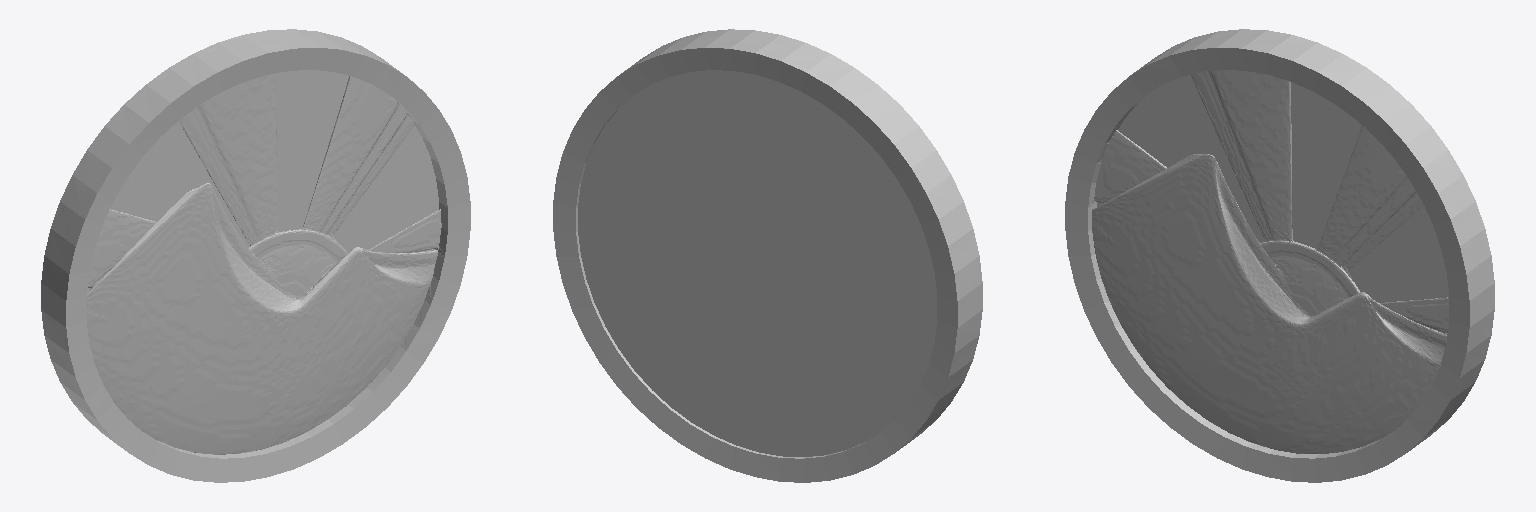
Rendered from Skooter Badge v5 Fix.obj.
The picture shows the model from 3 angles: view 1: azimuth 30°, elevation 25°; view 2: azimuth 150°, elevation 25°; view 3: azimuth 330°, elevation 25°; orthographic projection.
Parts seen in each view (by area): view 1: Skooter_Badge_fixed; view 2: Skooter_Badge_fixed; view 3: Skooter_Badge_fixed.
Boxes of the visible parts, x1,y1,x2,y2 form: Skooter_Badge_fixed: [41, 29, 470, 482]; Skooter_Badge_fixed: [553, 29, 982, 482]; Skooter_Badge_fixed: [1065, 29, 1494, 482].
Size of the model in its own units: 1.89 by 1.9 by 0.2048.